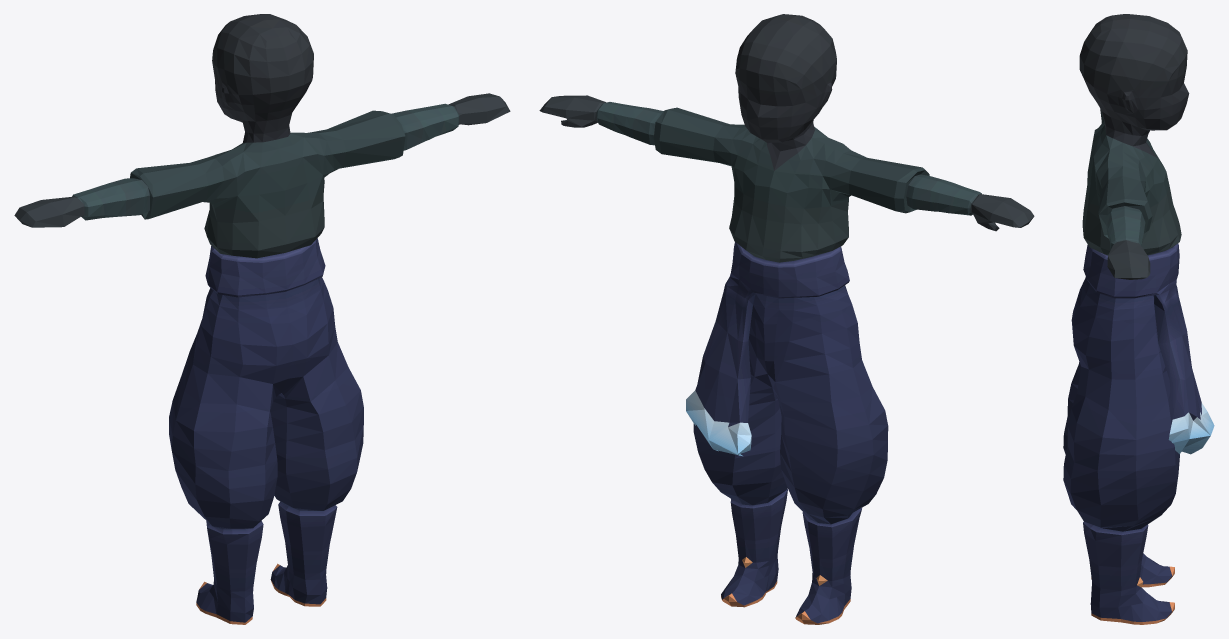
The model's file is CharSkyNPC_Body_JugglerRig.glb.
3 views of the same model, side by side, from view 1: azimuth 30°, elevation 25°; view 2: azimuth 150°, elevation 25°; view 3: azimuth 270°, elevation 25° (orthographic).
Visible parts, largest first — view 1: CharSkyNPC_Body_JugglerRig; view 2: CharSkyNPC_Body_JugglerRig; view 3: CharSkyNPC_Body_JugglerRig.
Part boxes in pixels (left/top/right/bottom): CharSkyNPC_Body_JugglerRig: left=14, top=14, right=510, bottom=624; CharSkyNPC_Body_JugglerRig: left=539, top=14, right=1034, bottom=624; CharSkyNPC_Body_JugglerRig: left=1063, top=14, right=1214, bottom=624.
Size of the model in its own units: 12.6 by 14.41 by 3.41.
1 material, 1 textured.
